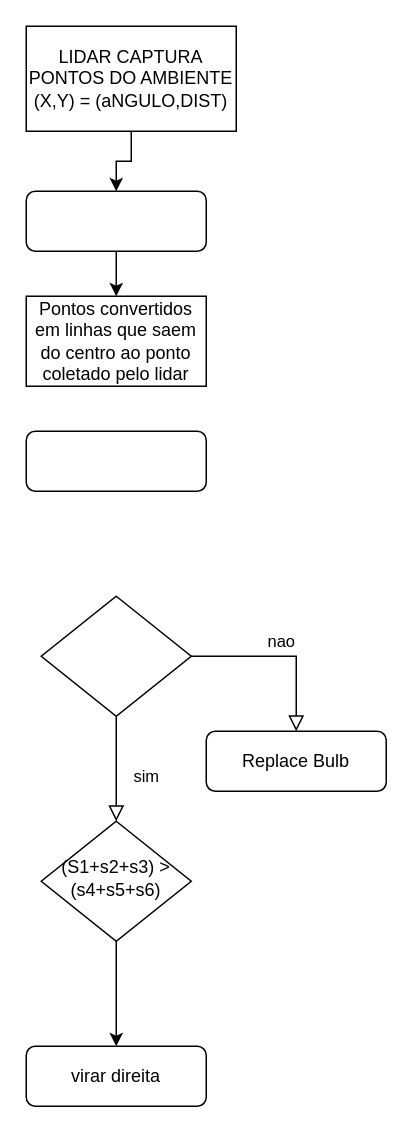
This 413x1133 diagram has some shape labels left out. The centre of each missing label's shape, as x and y in pixels:
(S1+s2+s3) > (s3+s4): the point at 115,655
AREA AO ENTORNO ROBO DIVIDIDO EM 12 SEGMENTOS: the point at 115,220
Mantem a maior linha de cada segmento e sua direção: the point at 115,460
